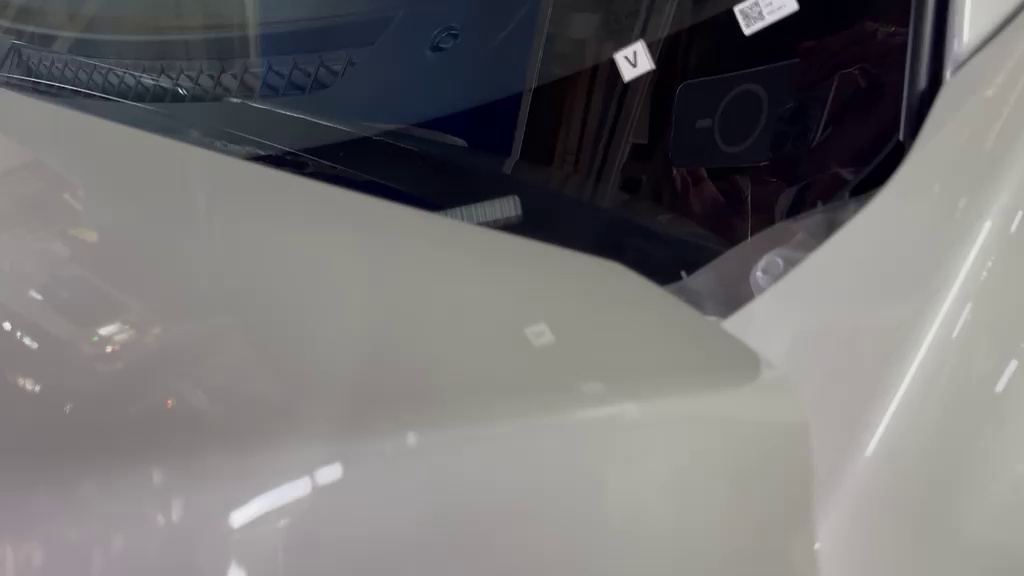hinge: (418, 186, 542, 245)
